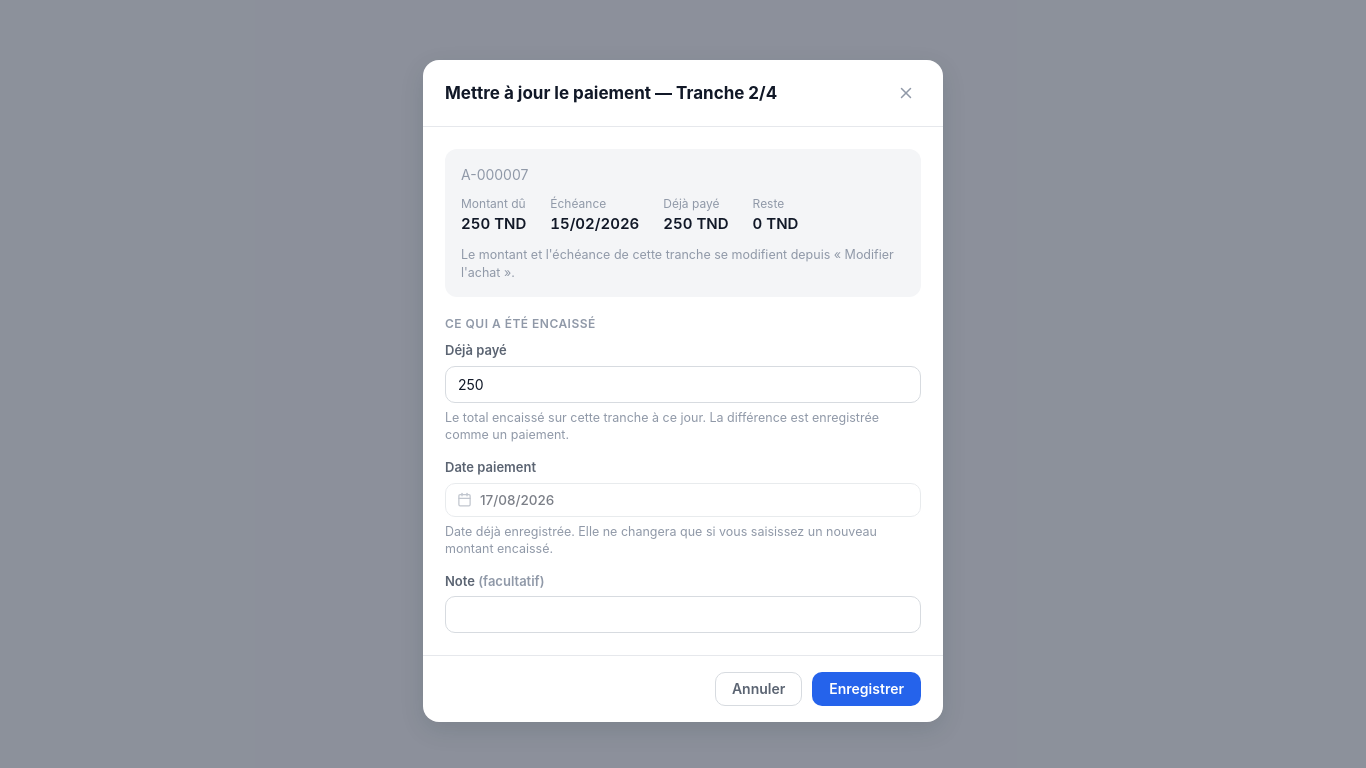
EditInstallmentModal — the locks it shows › asks for confirmation before touching a settled tranche
Replace the text in the number field with id "inst-paid" with "180" at (683, 384), box [445, 366, 921, 403]
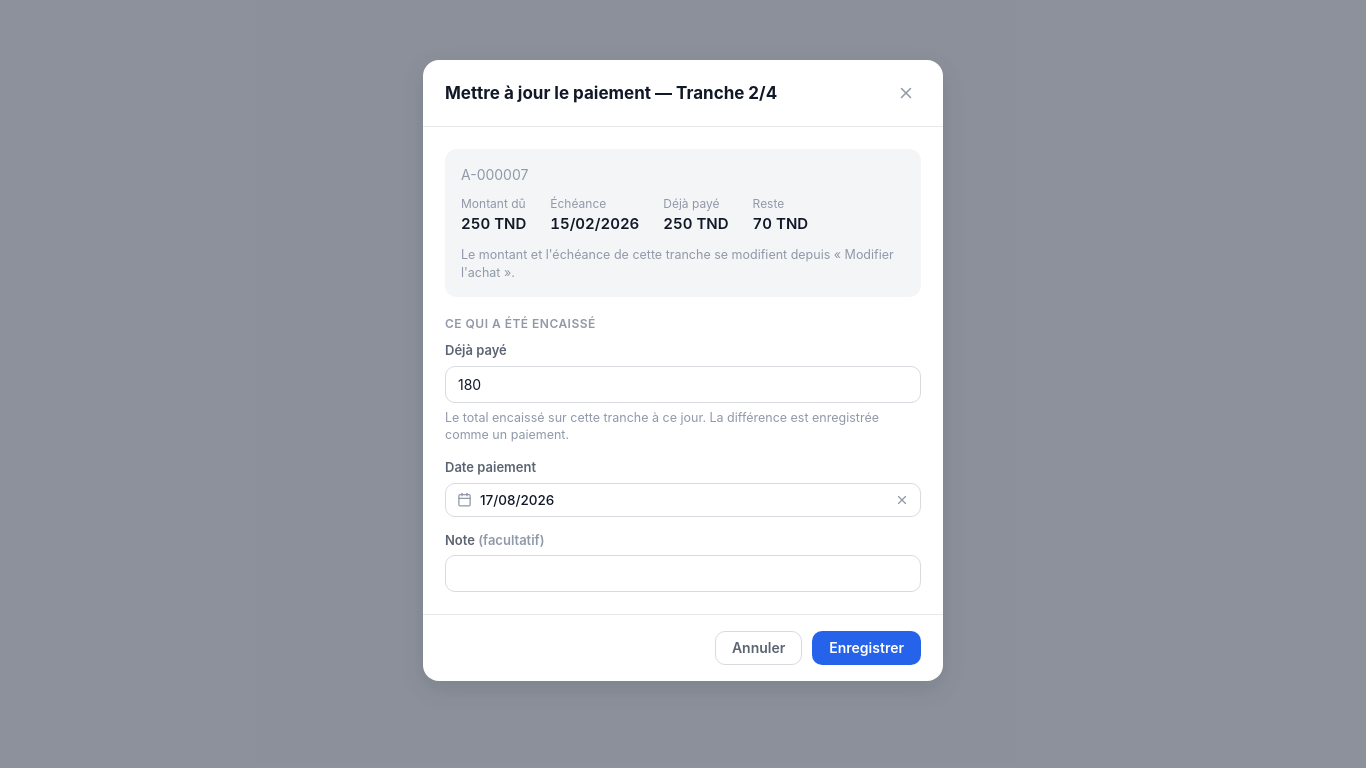
Click the button with class "btn--primary" at (867, 648), box [812, 631, 921, 665]
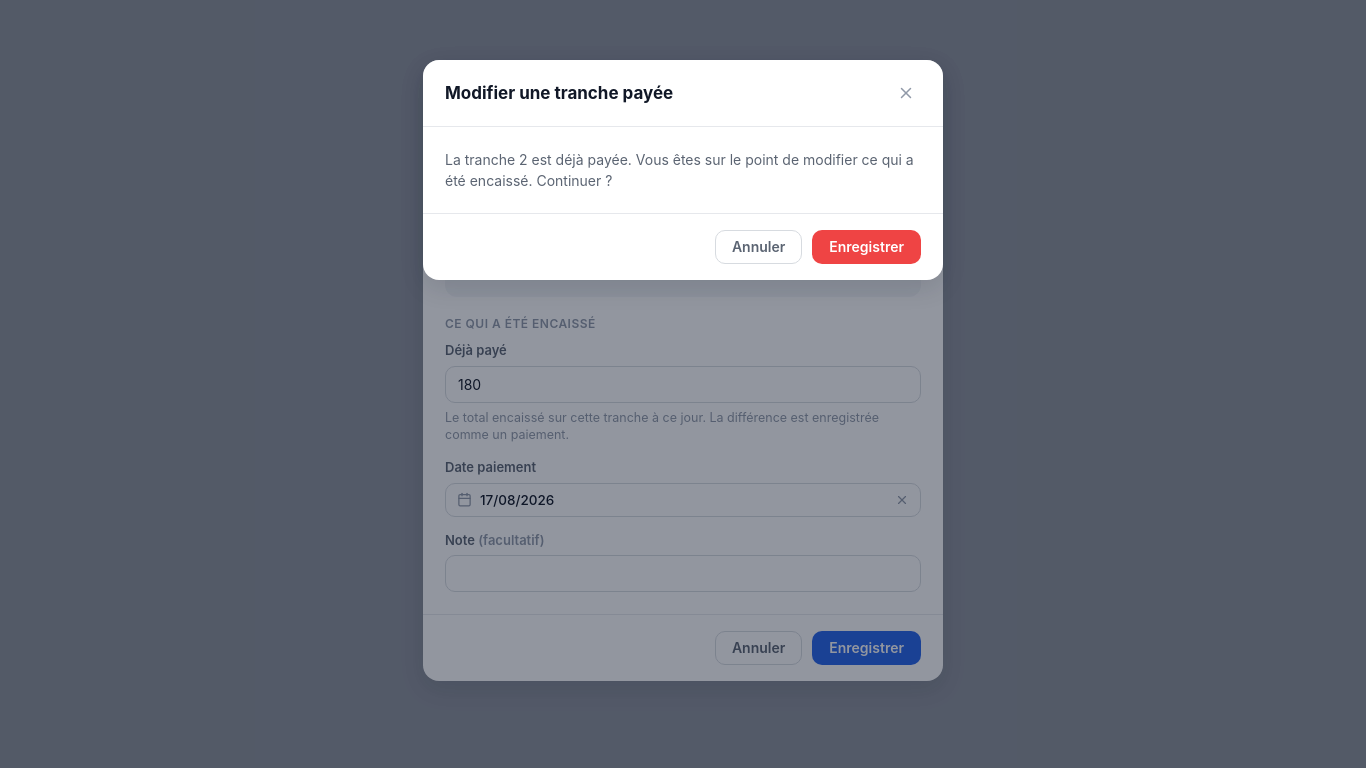
Expected: the element that starts with "Modifier une tranche payée" is shown
